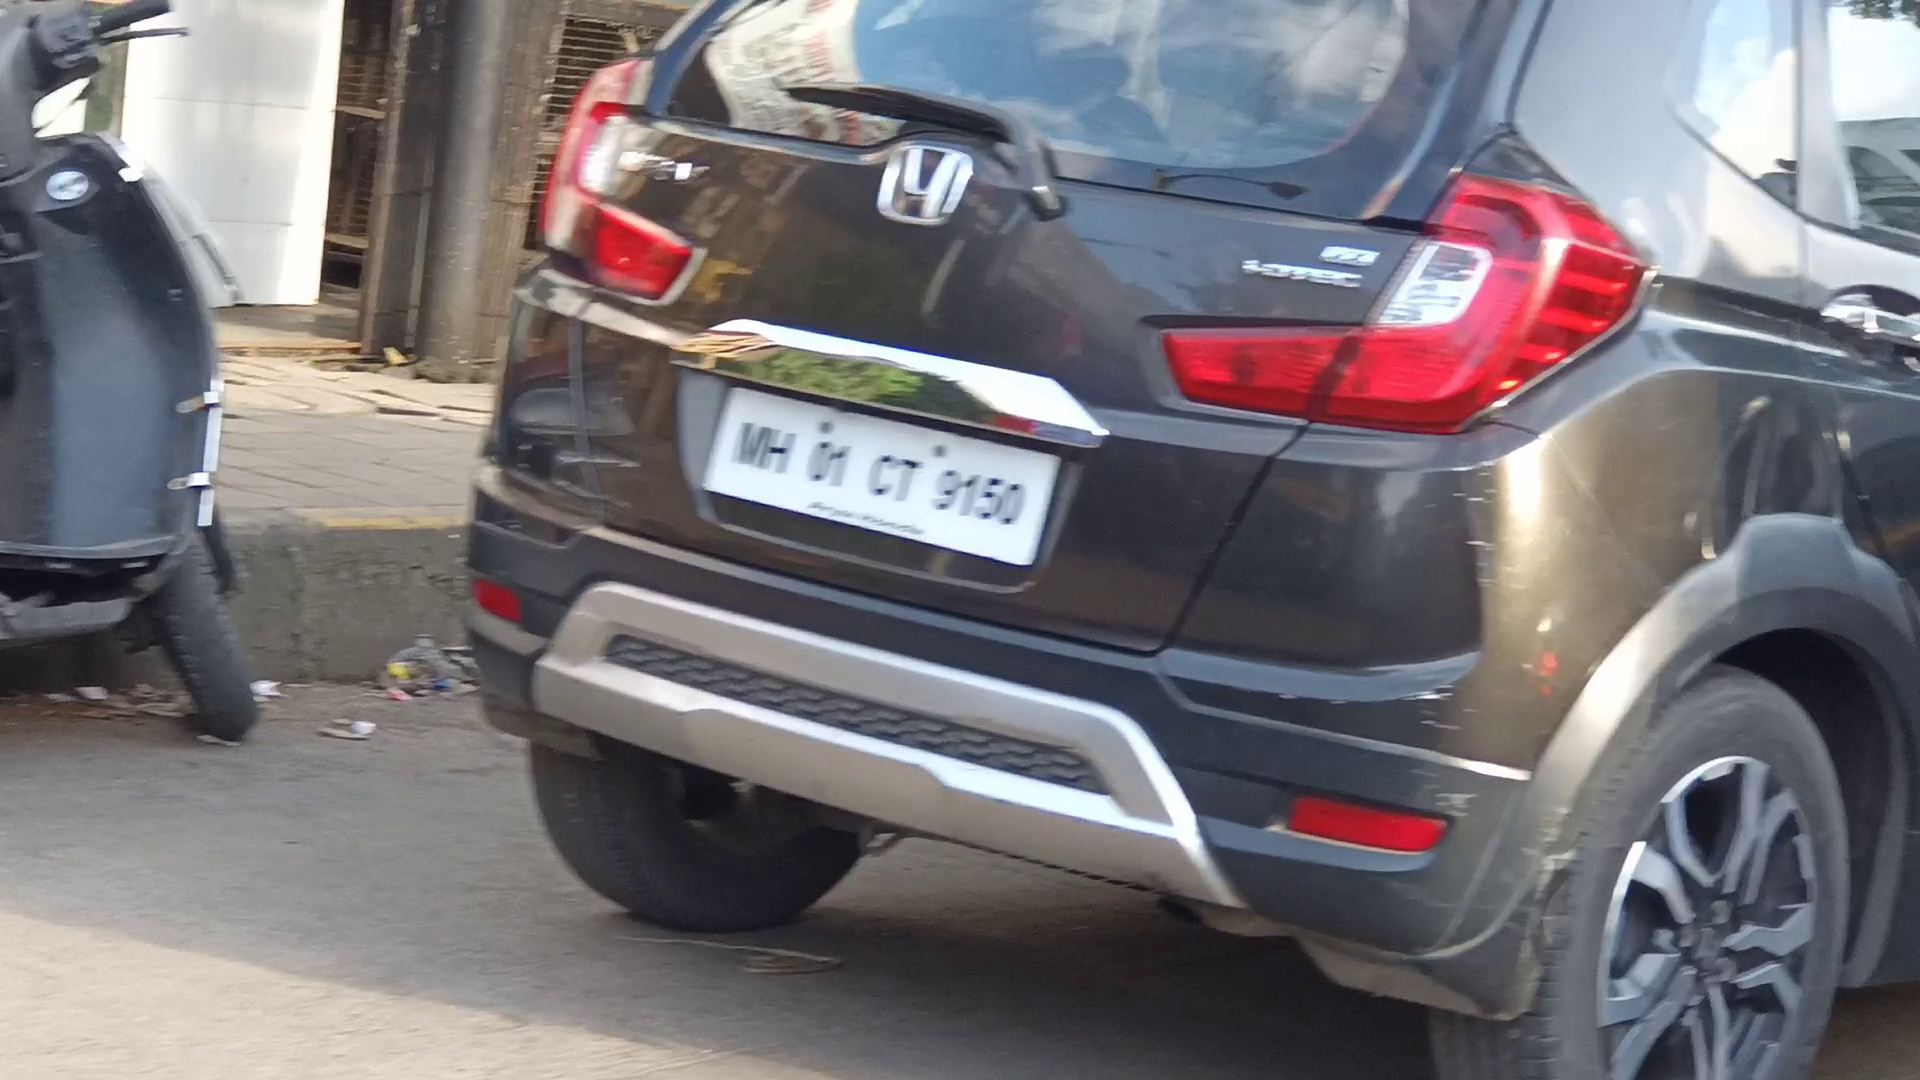MH01CT9150: (698, 369, 1061, 565)
